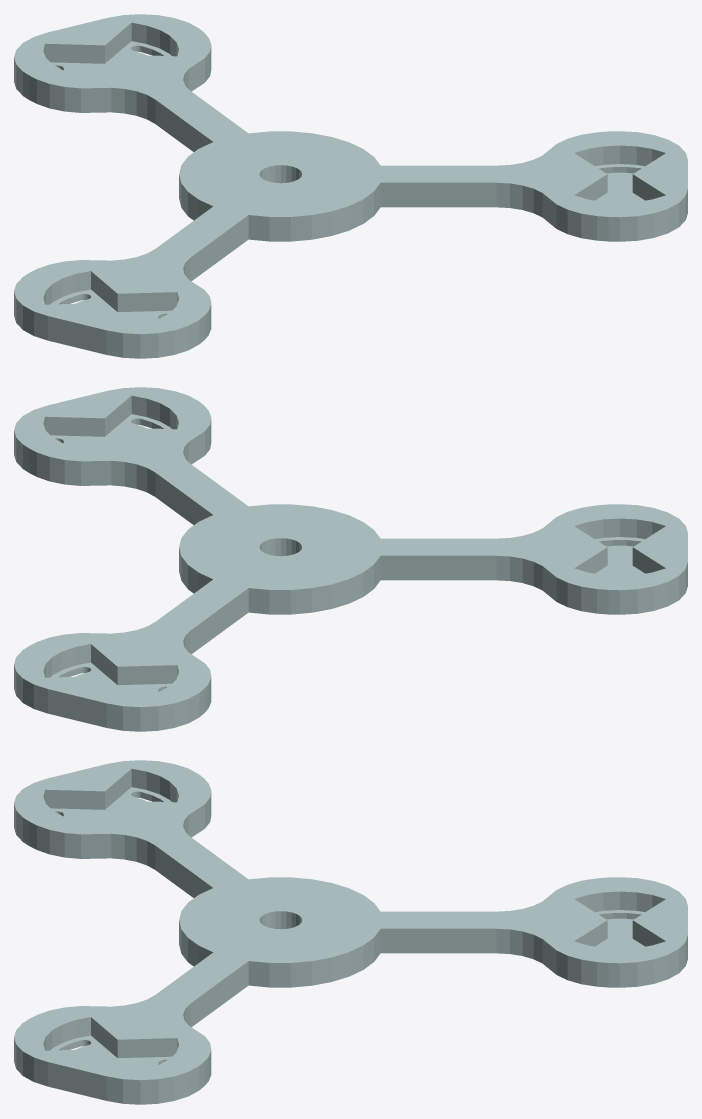
File: soporte.glb
The picture shows the model from 3 angles, top to bottom: view 1: azimuth 30°, elevation 25°; view 2: azimuth 150°, elevation 25°; view 3: azimuth 270°, elevation 25°; orthographic projection.
Parts seen in each view (by area): view 1: soporte elice; view 2: soporte elice; view 3: soporte elice.
Part boxes in pixels (x1,y1,x2,y2): soporte elice: (14, 14, 687, 358); soporte elice: (14, 387, 687, 731); soporte elice: (14, 760, 687, 1104).
Size of the model in its own units: 0.1116 by 0.004 by 0.0993.
